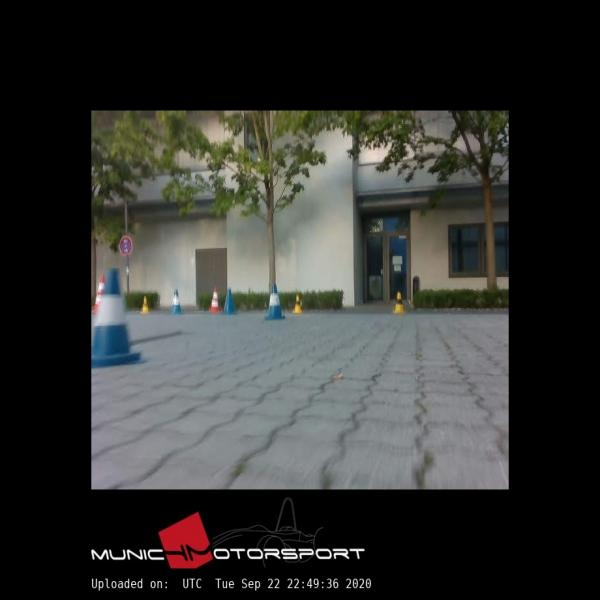blue_cone: (91, 269, 145, 369), (265, 286, 285, 320), (222, 288, 238, 314), (170, 289, 183, 315)
large_orange_cone: (94, 275, 104, 313), (210, 288, 220, 313)
yellow_cone: (394, 291, 404, 313), (293, 294, 303, 312), (141, 295, 149, 314)
